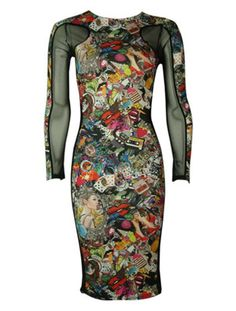C_dress: (28, 6, 205, 304)
C_skirt: (68, 120, 167, 305)
